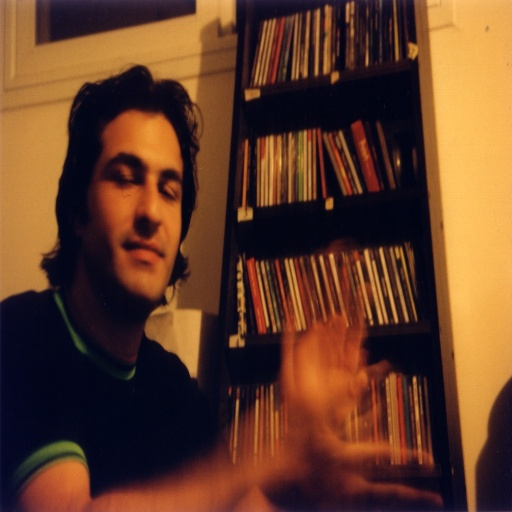hand: (277, 240, 383, 419), (302, 376, 440, 511)
